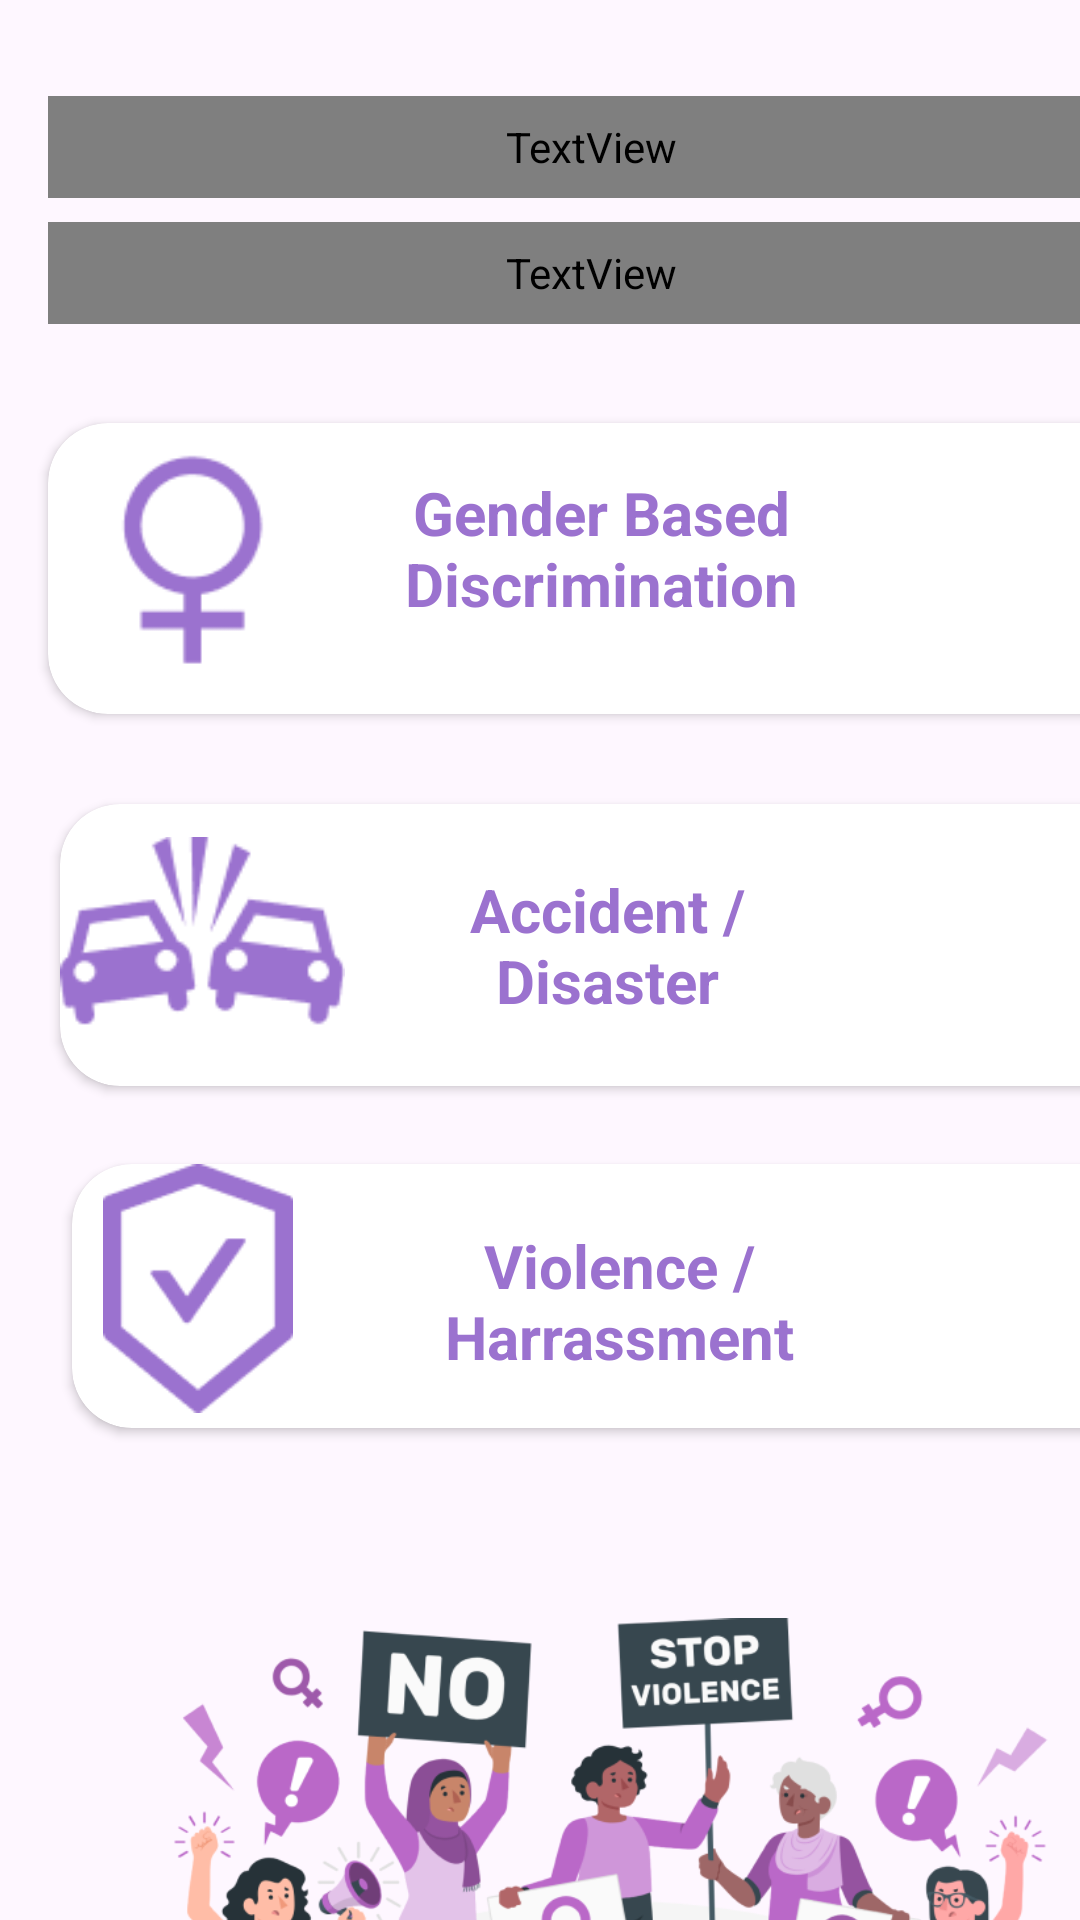

Icon click points for this 1080w x 1920h phone screenshot, format (x,y):
safety: (184,1288)
